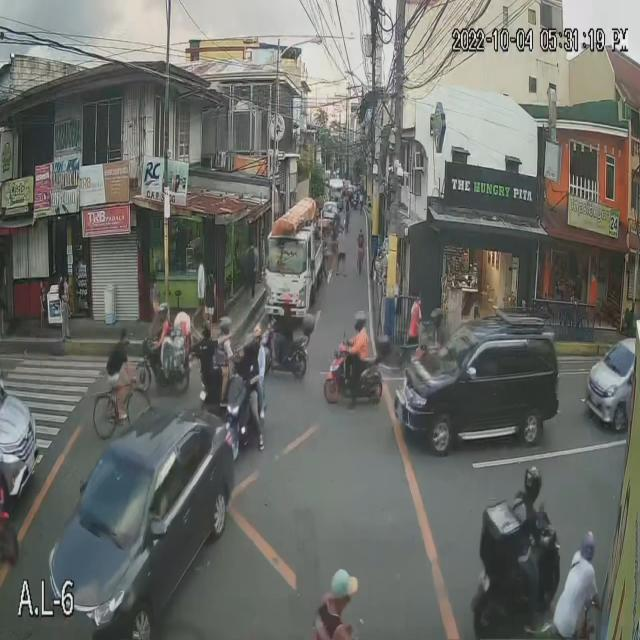Full-Faced: (516, 466, 544, 508), (202, 318, 217, 343), (221, 320, 236, 344), (278, 286, 290, 312), (156, 300, 170, 322), (241, 336, 252, 360), (356, 308, 367, 328), (256, 321, 264, 337)
Invalid: (574, 528, 595, 560)
